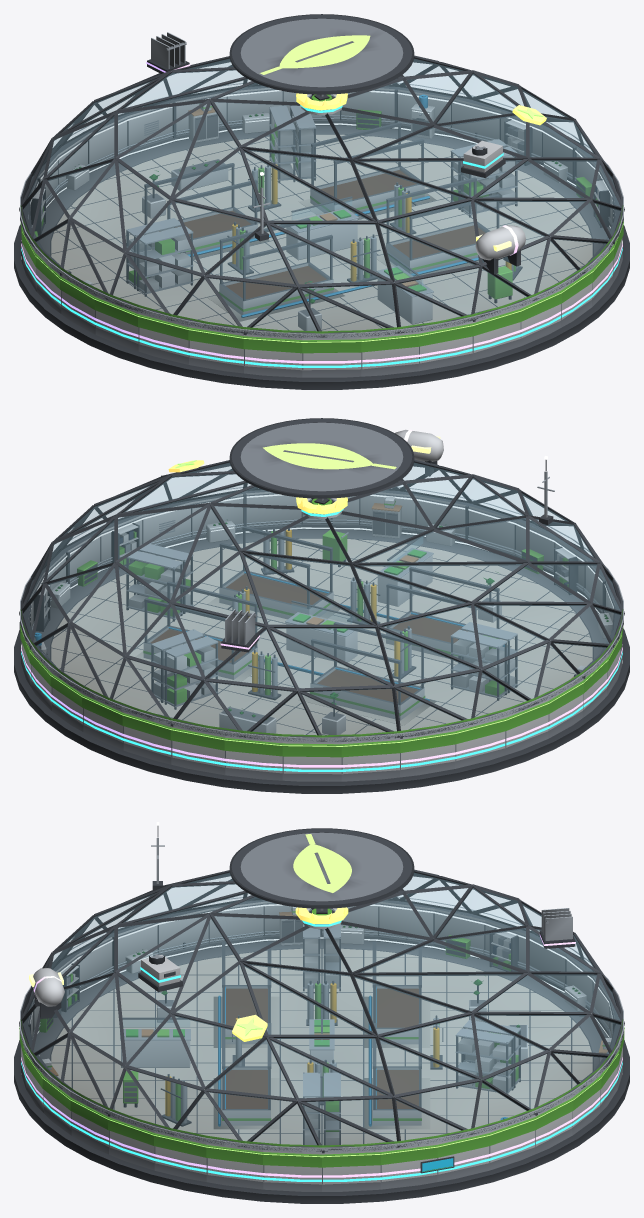
Rendered from greenhouse_m.glb.
3 renders of one model, top to bottom at view 1: azimuth 30°, elevation 25°; view 2: azimuth 150°, elevation 25°; view 3: azimuth 270°, elevation 25°, orthographic.
Parts seen in each view (by area): view 1: Roof, Base, Interior, L4, Wall_20, Wall_21, Wall_22, Wall_19, Wall_23, Wall_06, Wall_03, Wall_04 (+21 smaller); view 2: Roof, Base, Interior, L4, Wall_25, Wall_11, Wall_10, Wall_09, Wall_12, Wall_08, Wall_28, Wall_24 (+22 smaller); view 3: Roof, Base, Interior, L4, Wall_00, Wall_31, Wall_30, Wall_14, Wall_17, Wall_01, Wall_29, Wall_13 (+21 smaller).
Part boxes in pixels (x1,y1,x2,y2): Roof: (19, 14, 624, 337); Base: (14, 125, 629, 389); Interior: (126, 105, 522, 330); L4: (146, 32, 525, 274); Wall_20: (243, 333, 302, 377); Wall_21: (302, 338, 361, 377); Wall_22: (361, 332, 419, 376); Wall_19: (188, 326, 243, 373); Wall_23: (418, 322, 473, 371); Wall_06: (226, 86, 283, 133); Wall_03: (397, 87, 451, 138); Wall_04: (341, 86, 399, 129); Roof: (19, 418, 624, 741); Base: (14, 529, 629, 793); Interior: (126, 526, 517, 734); L4: (220, 429, 443, 652); Wall_25: (360, 490, 417, 538); Wall_11: (341, 738, 400, 781); Wall_10: (282, 742, 341, 781); Wall_09: (224, 736, 282, 780); Wall_12: (400, 730, 455, 777); Wall_08: (170, 724, 225, 775); Wall_28: (190, 491, 246, 542); Wall_24: (416, 494, 471, 546); Roof: (19, 828, 624, 1151); Base: (14, 939, 629, 1203); Interior: (120, 924, 527, 1145); L4: (29, 908, 575, 1018); Wall_00: (322, 1151, 380, 1191); Wall_31: (263, 1151, 321, 1191); Wall_30: (206, 1143, 263, 1189); Wall_14: (379, 900, 435, 948); Wall_17: (208, 900, 264, 948); Wall_01: (380, 1143, 437, 1189); Wall_29: (154, 1132, 206, 1181); Wall_13: (434, 907, 486, 959).
Size of the model in its own units: 17.76 by 6.58 by 17.76.
